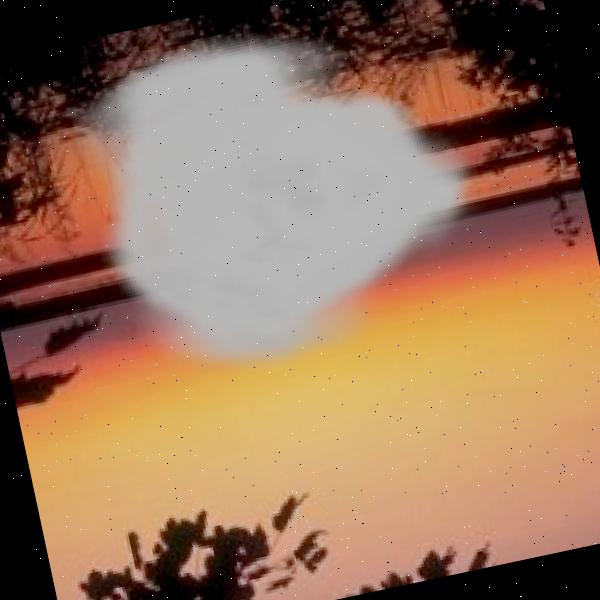smoke: (61, 0, 510, 406)
